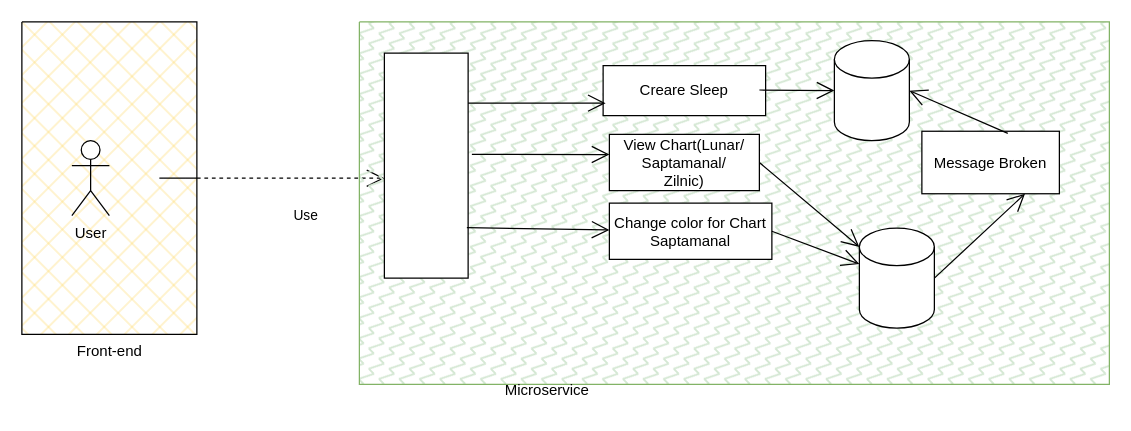
This 1131x431 diagram has some shape labels left out. Each missing label, with the centre of its shape:
API GateWay: the point at 425,165
Read: the point at 896,277
Write: the point at 871,90
